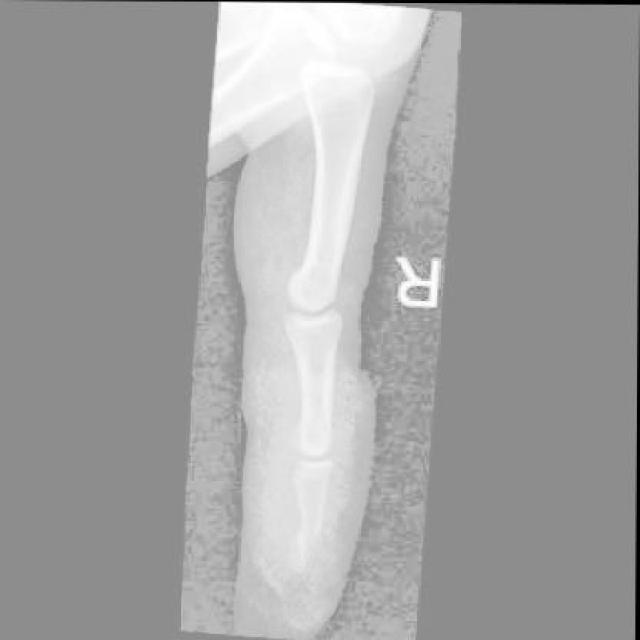Fracture: (286, 523, 327, 580)
